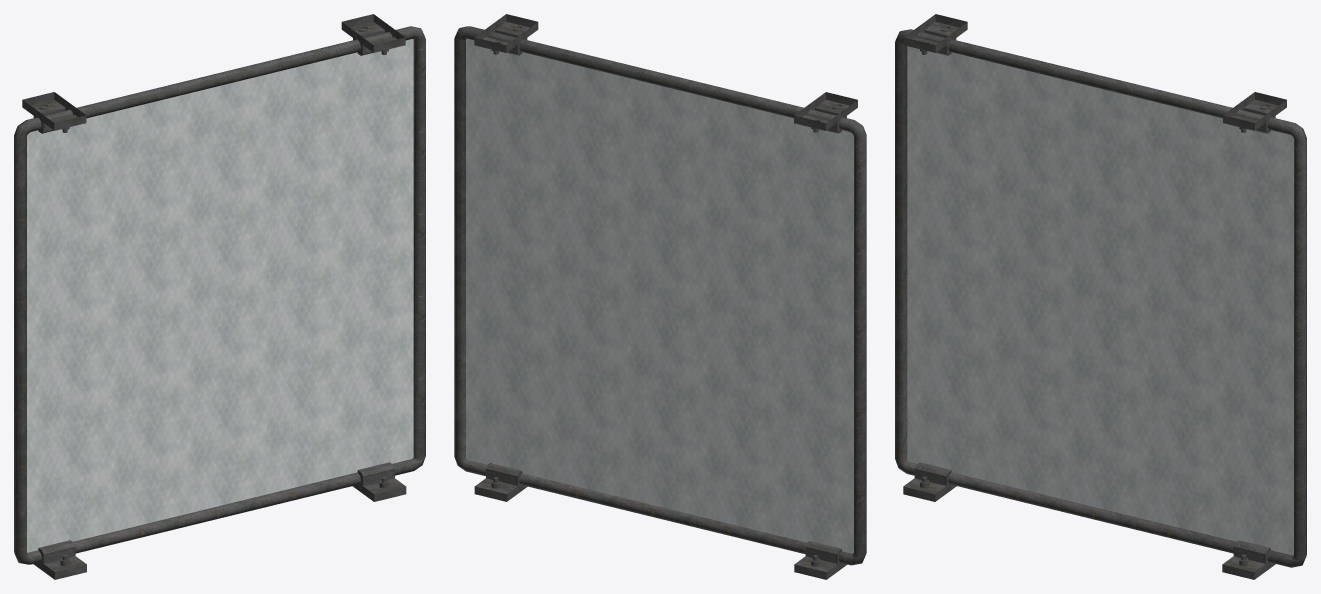
File: mesh_fence.FBX
3 renders of one model, left to right at view 1: azimuth 30°, elevation 25°; view 2: azimuth 150°, elevation 25°; view 3: azimuth 330°, elevation 25°, orthographic.
Visible parts, largest first — view 1: Plane001; view 2: Plane001; view 3: Plane001.
Boxes of the visible parts, x1,y1,x2,y2 form: Plane001: [14, 14, 425, 579]; Plane001: [454, 14, 866, 579]; Plane001: [895, 14, 1306, 579].
Size of the model in its own units: 1.35 by 1.44 by 0.1862.
Materials: 3 (3 with a texture image).
